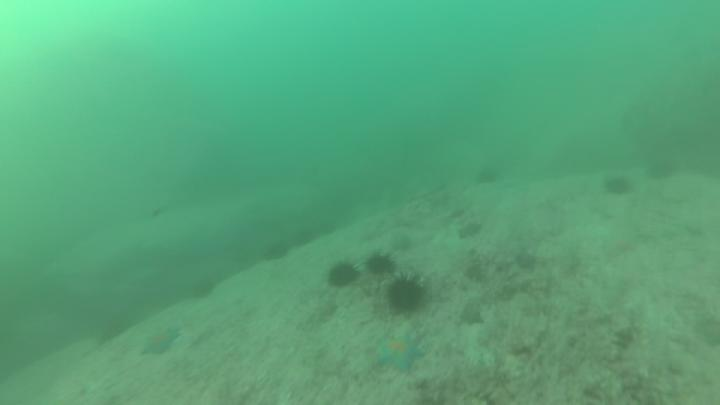echinus: (381, 267, 430, 317), (325, 257, 362, 293), (361, 248, 398, 280), (188, 278, 219, 302), (603, 176, 635, 198), (647, 161, 677, 181), (291, 230, 316, 248), (264, 245, 290, 262), (476, 170, 500, 186), (318, 221, 339, 237)
starfish: (370, 334, 428, 375), (142, 323, 185, 361), (514, 244, 541, 274), (456, 306, 487, 329), (458, 222, 484, 242)
